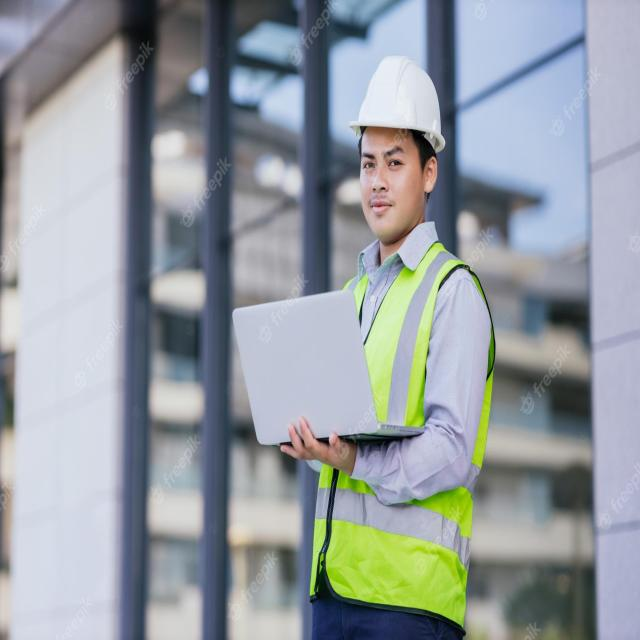helmet: (343, 46, 453, 158)
no-goggles: (346, 134, 434, 192)
vest: (305, 237, 485, 602)
